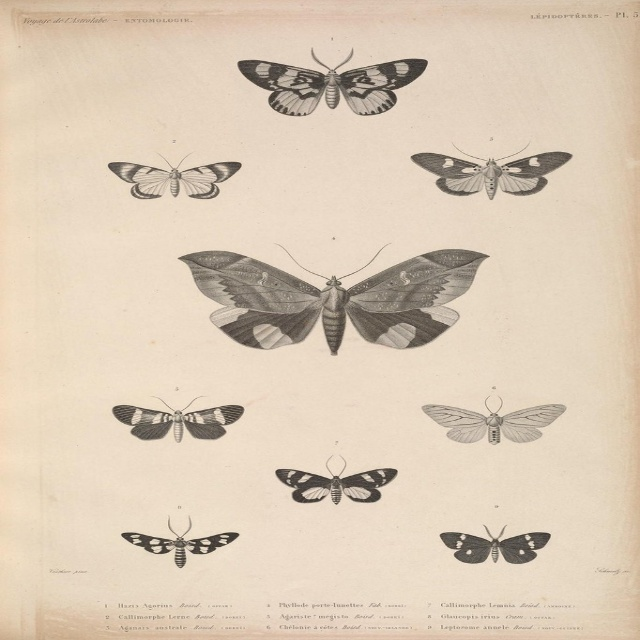Butterfly: (168, 250, 482, 360), (246, 43, 428, 117), (402, 151, 573, 202), (421, 404, 566, 448), (104, 158, 244, 200), (106, 405, 247, 443), (273, 468, 400, 506), (117, 530, 237, 568), (433, 532, 553, 564)
